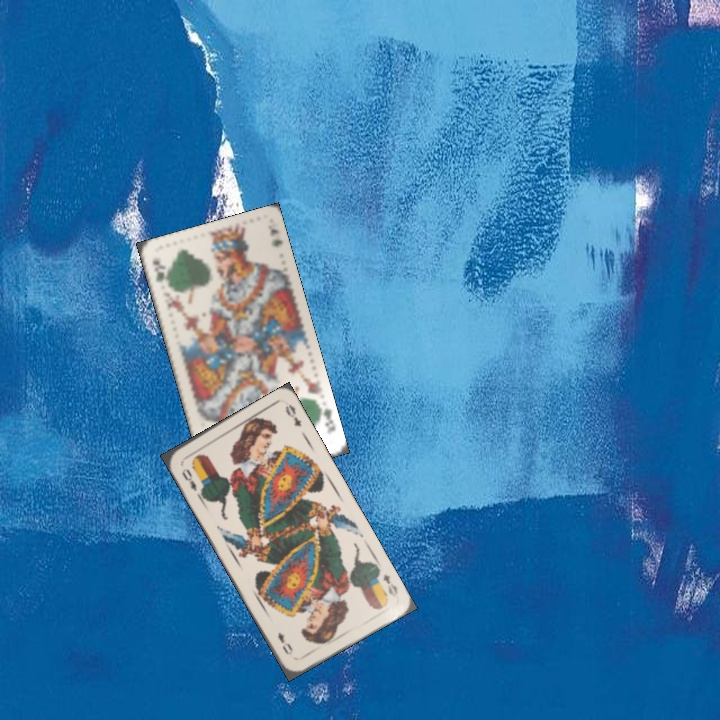EO: (177, 464, 200, 494), (379, 571, 400, 599)
GK: (148, 254, 172, 291), (315, 402, 338, 436)
